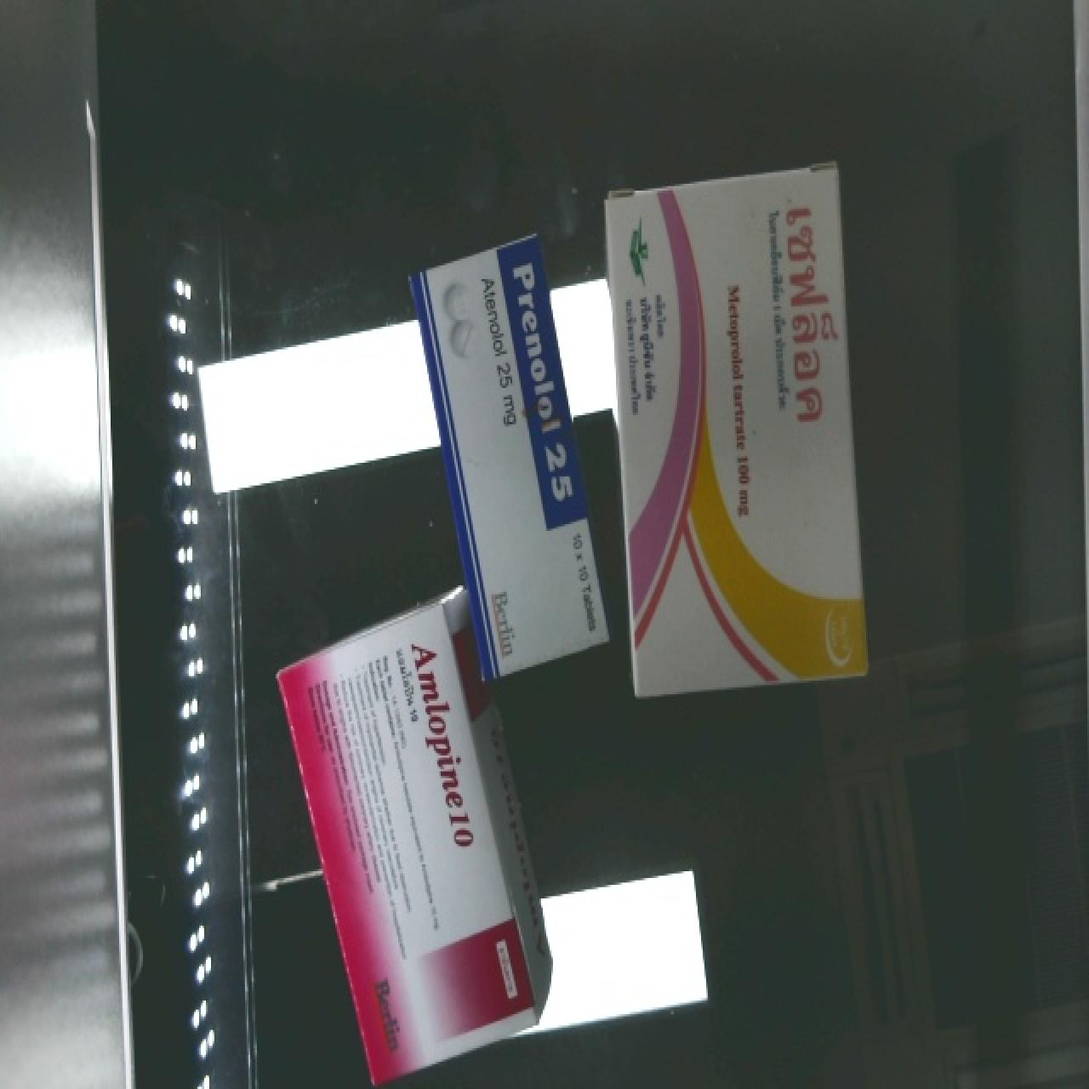medicine_label_obb: (490, 229, 596, 530), (386, 610, 497, 870), (760, 170, 854, 442)
